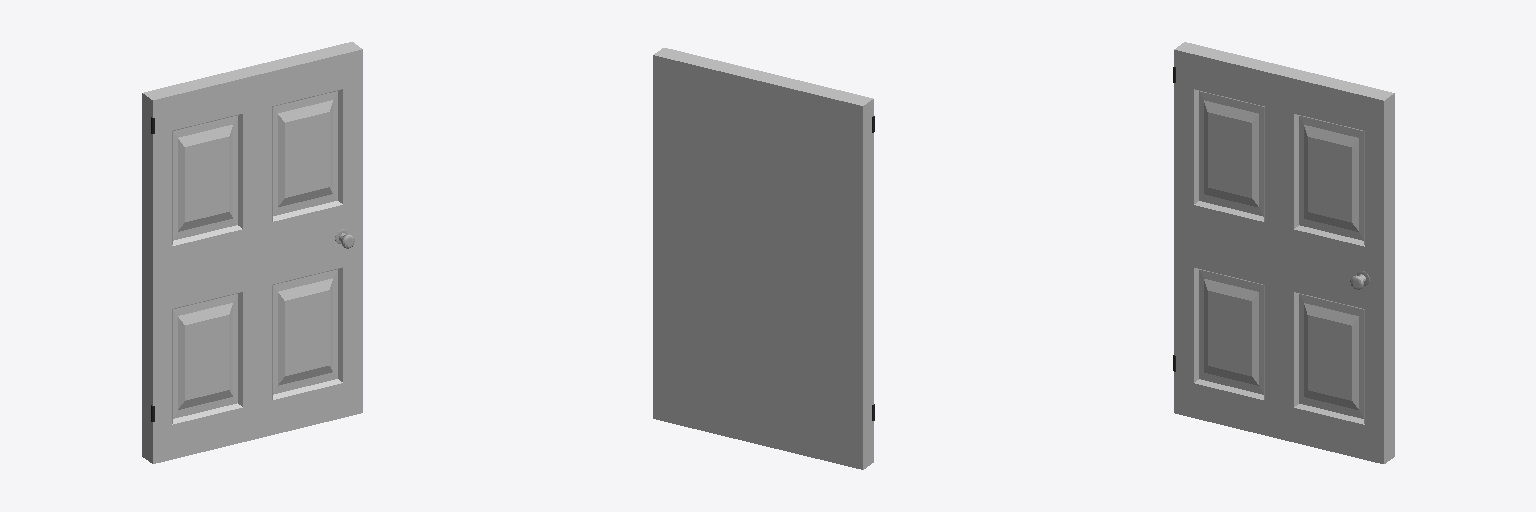
File: door.obj
The picture shows the model from 3 angles: view 1: azimuth 30°, elevation 25°; view 2: azimuth 150°, elevation 25°; view 3: azimuth 330°, elevation 25°; orthographic projection.
Parts seen in each view (by area): view 1: pCube5 group1; view 2: pCube5 group1; view 3: pCube5 group1.
Boxes of the visible parts, x1,y1,x2,y2 form: pCube5 group1: [142, 42, 362, 463]; pCube5 group1: [653, 48, 873, 469]; pCube5 group1: [1174, 42, 1394, 463].
Bounding box in the file's own units: 22.7 × 37.41 × 3.44.